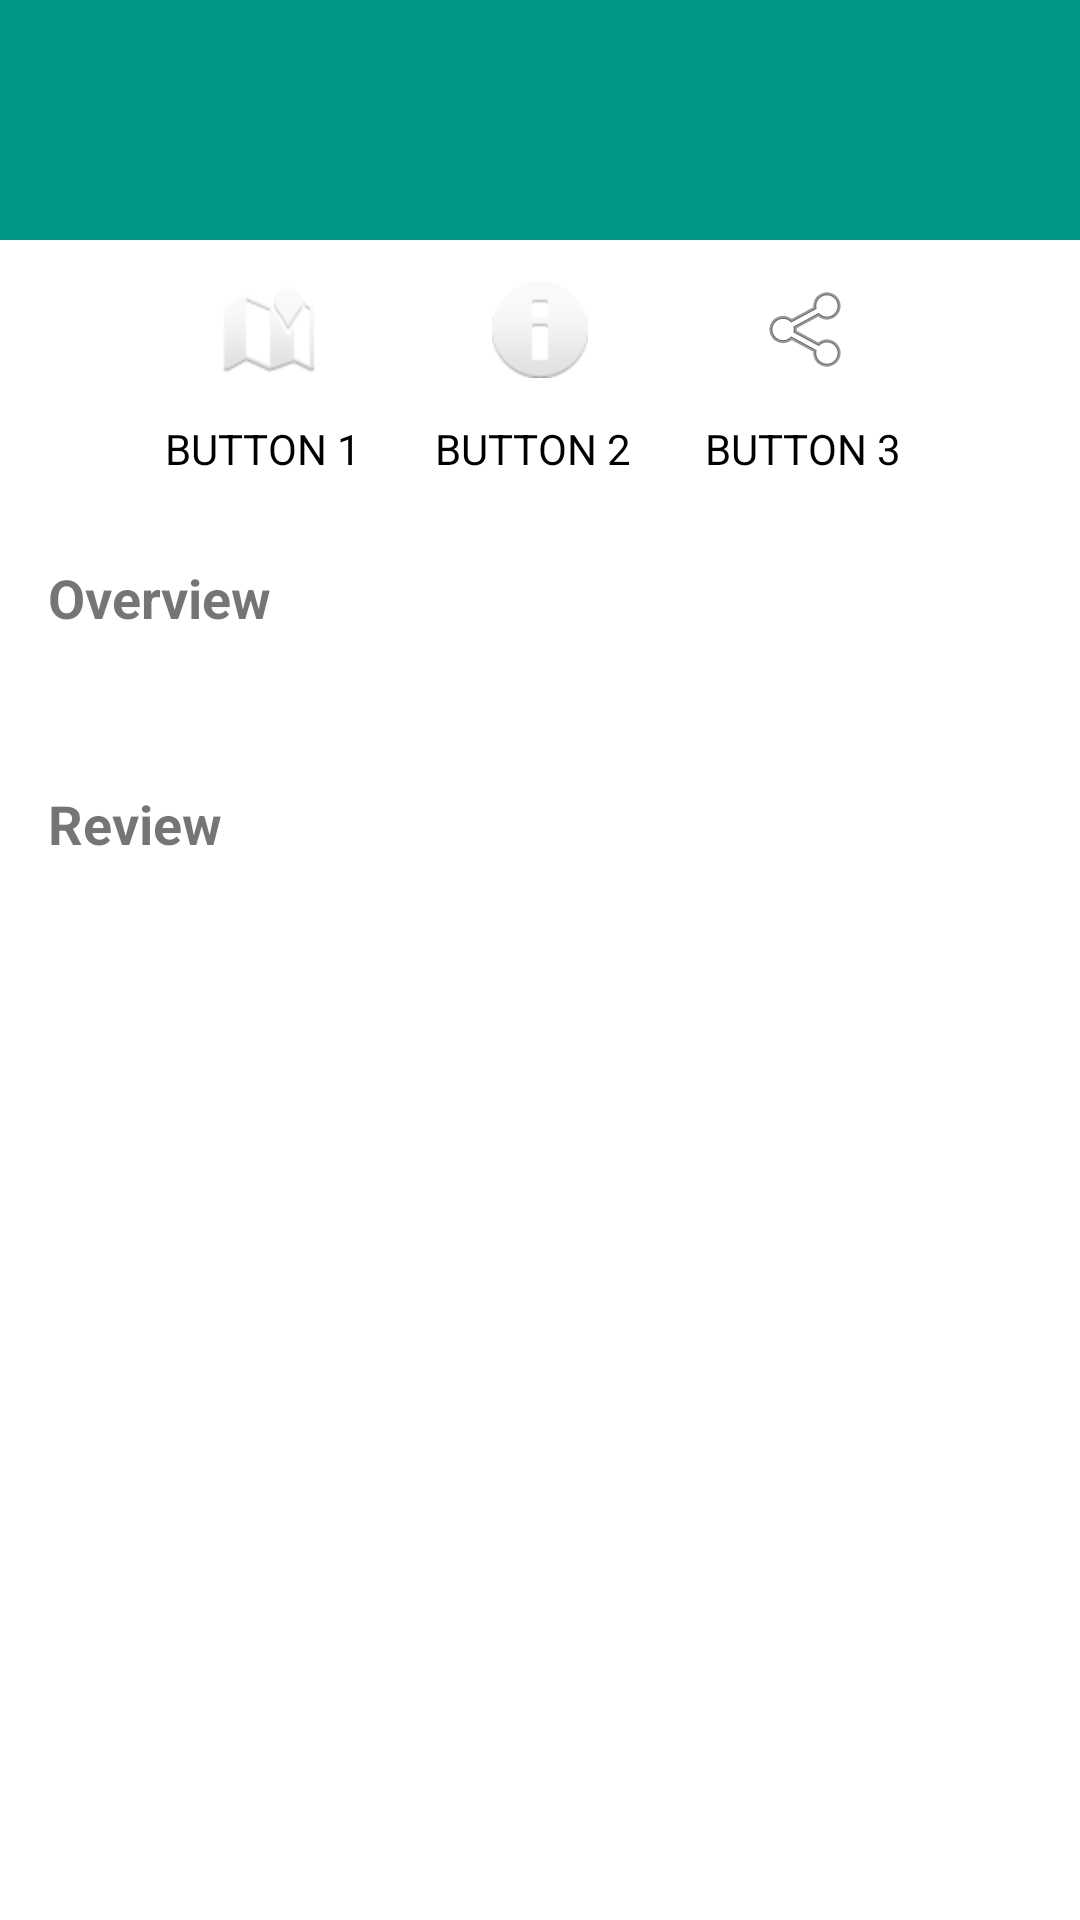

Named icons in this screenshot (1080 × 1920) and their bounding boxes, (x1=x1, y1=y1, x2=x2, y2=y2):
info: (x1=492, y1=300, x2=588, y2=378)
map: (x1=224, y1=299, x2=314, y2=372)
share: (x1=769, y1=292, x2=841, y2=367)
